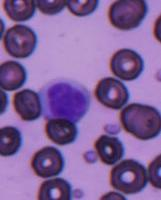L: (39, 77, 91, 122)
